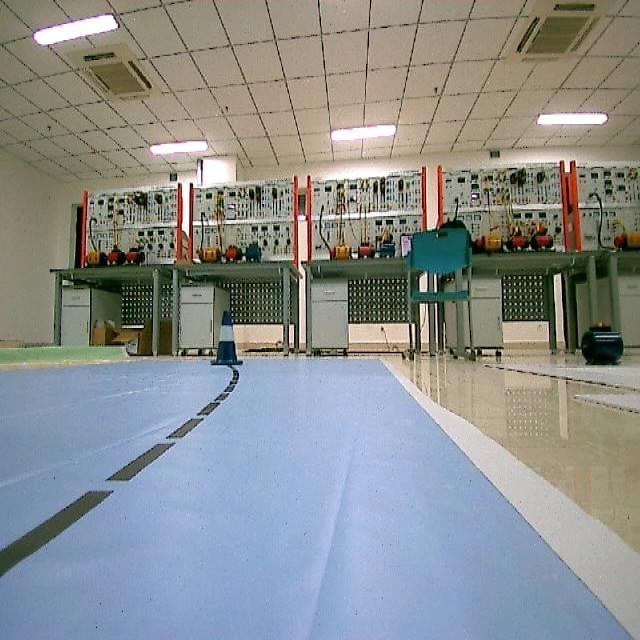obstacle: (202, 309, 248, 372)
